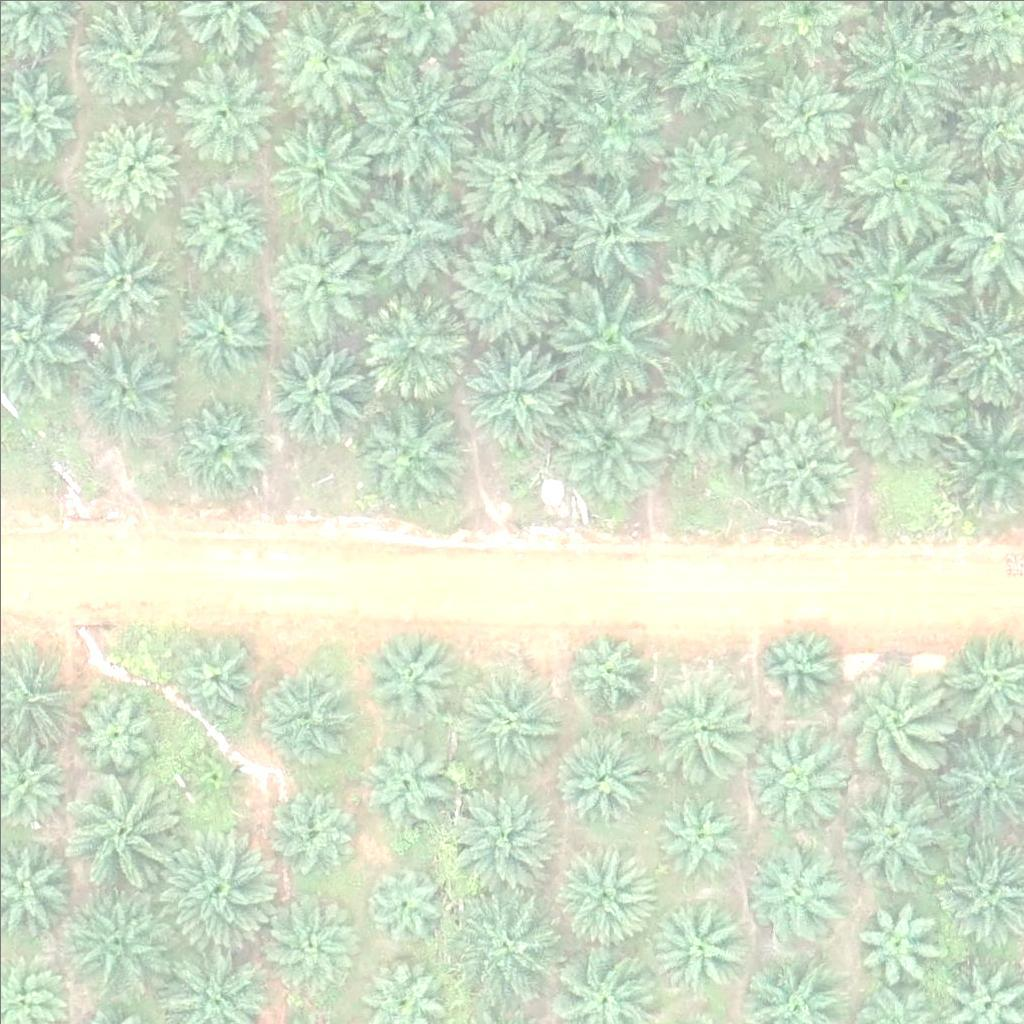Kelapa_Sawit: (827, 652, 952, 778), (353, 399, 466, 513), (455, 335, 568, 449), (455, 126, 568, 240), (556, 66, 669, 180), (839, 125, 952, 239), (64, 776, 177, 890), (270, 9, 383, 122), (361, 72, 474, 185), (357, 286, 470, 399), (459, 222, 572, 335), (462, 8, 575, 121), (549, 285, 662, 398), (651, 11, 764, 124), (742, 404, 855, 517), (844, 343, 957, 456), (66, 330, 178, 444), (269, 219, 381, 333), (355, 175, 467, 289), (646, 346, 758, 460), (454, 663, 566, 777), (556, 172, 668, 285), (552, 384, 664, 497), (752, 176, 864, 289), (842, 228, 954, 341), (846, 8, 958, 121), (62, 884, 174, 997), (160, 831, 272, 944), (451, 886, 563, 999), (443, 774, 555, 887), (639, 668, 751, 781), (840, 776, 952, 889), (80, 6, 180, 107), (171, 394, 271, 495), (268, 336, 368, 437), (270, 116, 370, 217), (656, 243, 756, 344), (759, 70, 859, 171), (754, 302, 854, 403), (63, 681, 163, 782), (255, 663, 355, 764), (361, 619, 461, 720), (550, 728, 650, 829), (649, 892, 749, 993), (748, 843, 848, 944), (69, 225, 169, 325), (81, 113, 181, 213), (170, 60, 270, 160), (173, 176, 273, 276), (170, 281, 270, 381), (657, 133, 757, 233), (551, 846, 651, 946), (743, 721, 843, 821), (266, 901, 354, 989), (361, 856, 449, 944), (561, 618, 649, 706), (170, 634, 257, 723), (650, 789, 737, 878), (269, 785, 356, 873), (362, 739, 449, 827), (755, 618, 842, 706), (854, 894, 941, 982), (178, 742, 241, 805)
